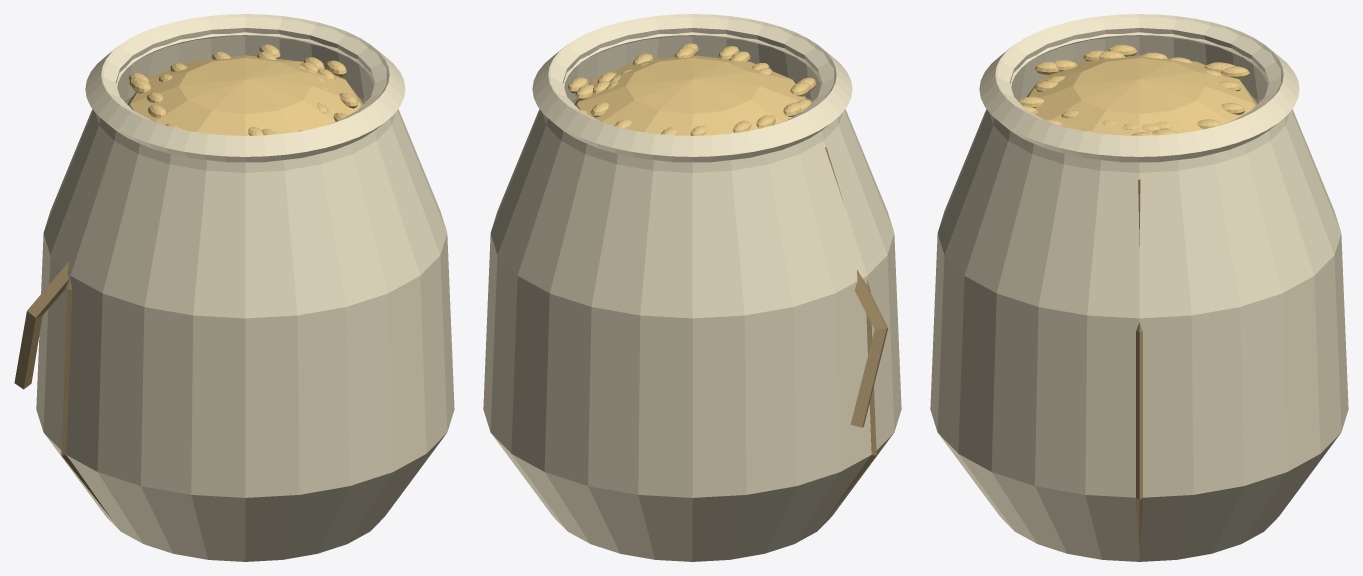
3 renders of one model, left to right at view 1: azimuth 30°, elevation 25°; view 2: azimuth 150°, elevation 25°; view 3: azimuth 270°, elevation 25°, orthographic.
Parts seen in each view (by area): view 1: BA-0026 batched; view 2: BA-0026 batched; view 3: BA-0026 batched.
Boxes of the visible parts, x1,y1,x2,y2 form: BA-0026 batched: (14, 14, 454, 561); BA-0026 batched: (483, 14, 901, 561); BA-0026 batched: (930, 14, 1348, 561).
Size of the model in its own units: 0.6253 by 0.662 by 0.58.
